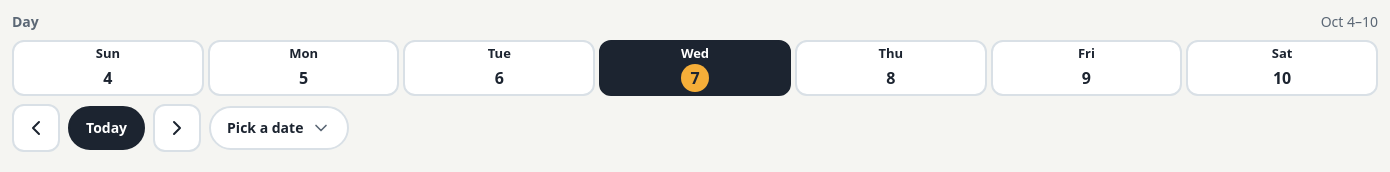
a day, picked by touch (ADR 0029) › shows the chosen day's week, and moves by a week without changing the day
The image size is (1390, 172).
Check: the text "Oct 4–10" is shown, box x1=1321 y1=12 x2=1378 y2=32
Step 1. Click the button named "Next week" → click(177, 128), box x1=153 y1=104 x2=201 y2=152
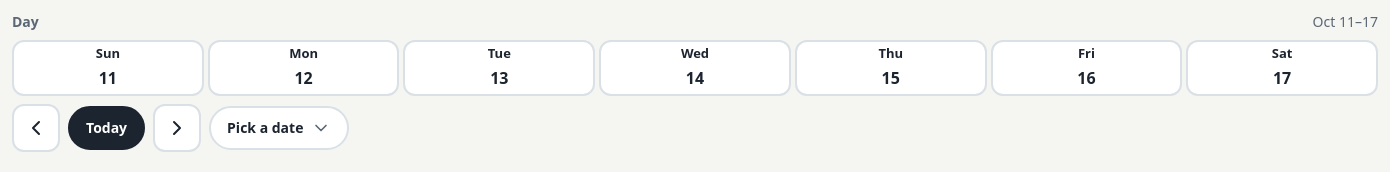
Check: the text "Oct 11–17" is shown, box x1=1313 y1=12 x2=1378 y2=32
Step 2. Click the button with aria-label "Tue, Oct 13" → click(499, 68), box x1=403 y1=40 x2=595 y2=96
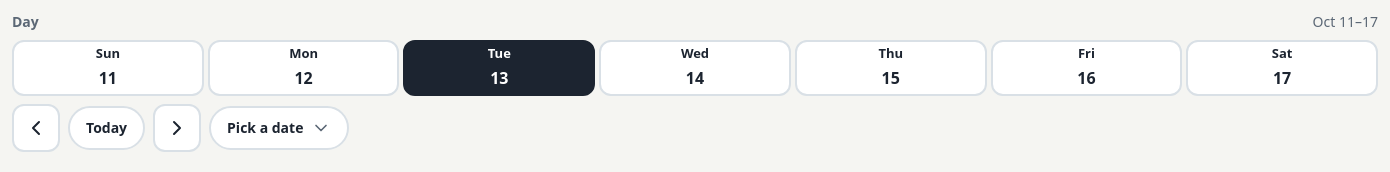
Today comes back to this week and picks today.
Step 3. Click the button "Today" → click(107, 128), box x1=68 y1=106 x2=145 y2=150
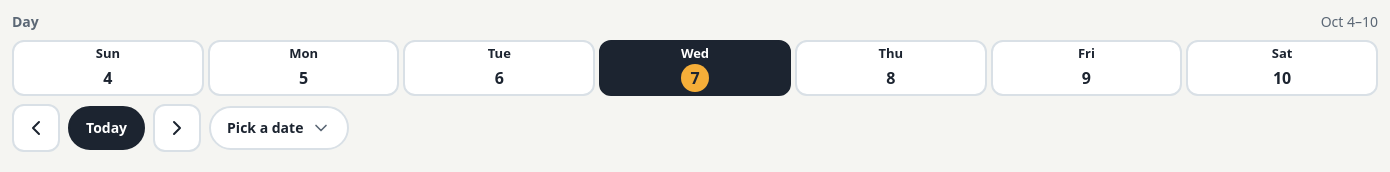
Check: the text "Oct 4–10" is shown, box x1=1321 y1=12 x2=1378 y2=32
